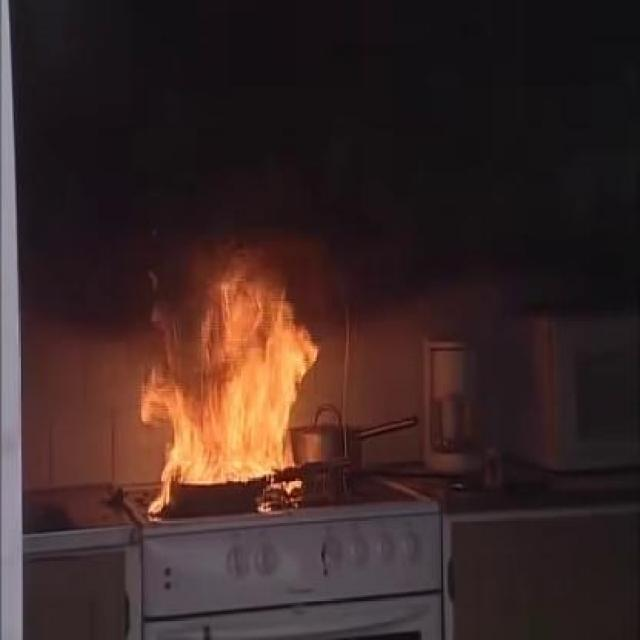fire: (132, 232, 314, 459)
